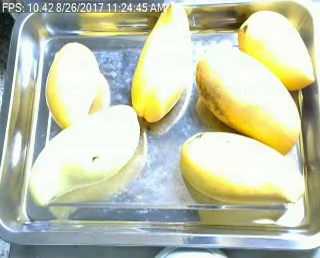Mango: (193, 45, 300, 155), (30, 104, 141, 205), (180, 131, 307, 202), (130, 3, 190, 120), (235, 11, 315, 91), (44, 42, 100, 130)
